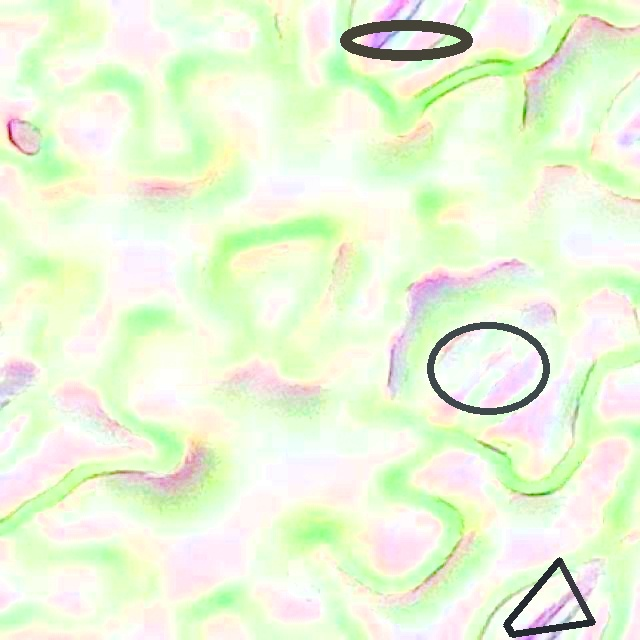open: (426, 321, 550, 415), (503, 557, 595, 637), (340, 19, 472, 61)
